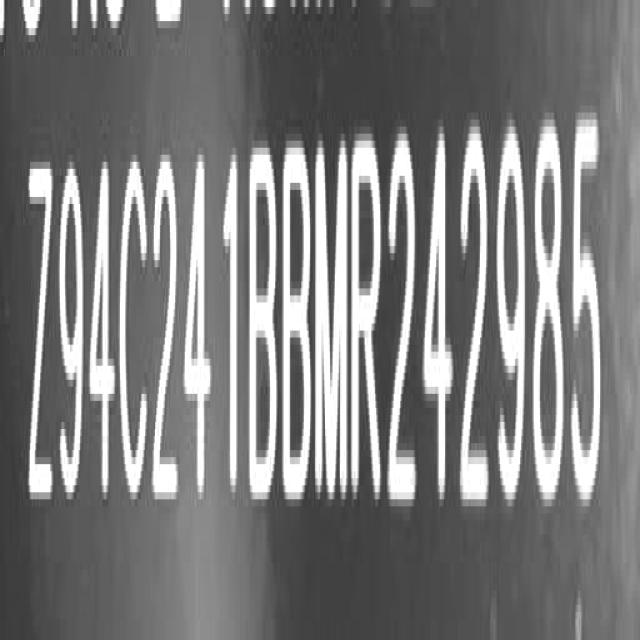1: (220, 146, 245, 512)
2: (456, 121, 490, 518), (388, 126, 422, 517), (152, 143, 184, 516)
4: (422, 122, 455, 519), (186, 150, 214, 514), (91, 157, 118, 512)
5: (572, 111, 603, 515)
8: (535, 120, 568, 514)
9: (498, 113, 529, 515), (57, 163, 86, 513)
B: (248, 142, 280, 509), (285, 132, 315, 507)
C: (120, 148, 148, 518)
M: (315, 132, 349, 512)
R: (351, 129, 385, 513)
Z: (22, 160, 53, 518)
